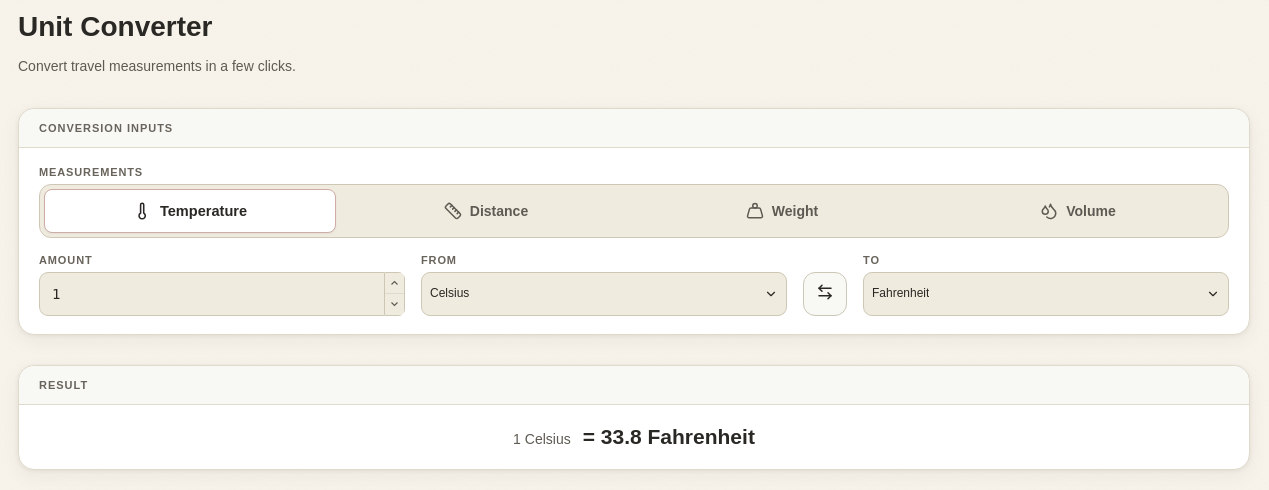
Test: UnitConverter › selects a measurement and updates the conversion units
Expected: the radio button labelled "Temperature" is checked, [133,201,247,220]
Step 1. Click the radio button labelled "Distance" → (486, 211), box [444,202,528,220]
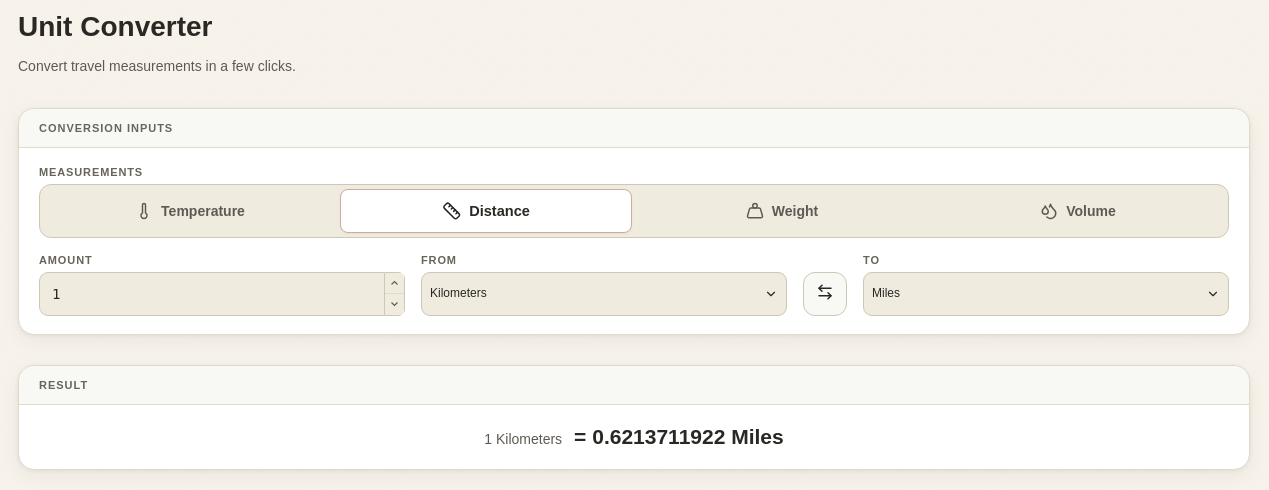
Expected: the radio button labelled "Distance" is checked, [442,201,530,220]
Expected: the dropdown named "From unit" reads "Kilometers", [421,272,787,316]
Expected: the dropdown named "To unit" reads "Miles", [863,272,1229,316]
